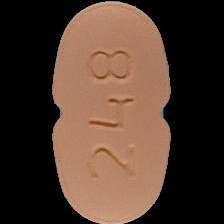0179-0158: (0, 0, 224, 224)
